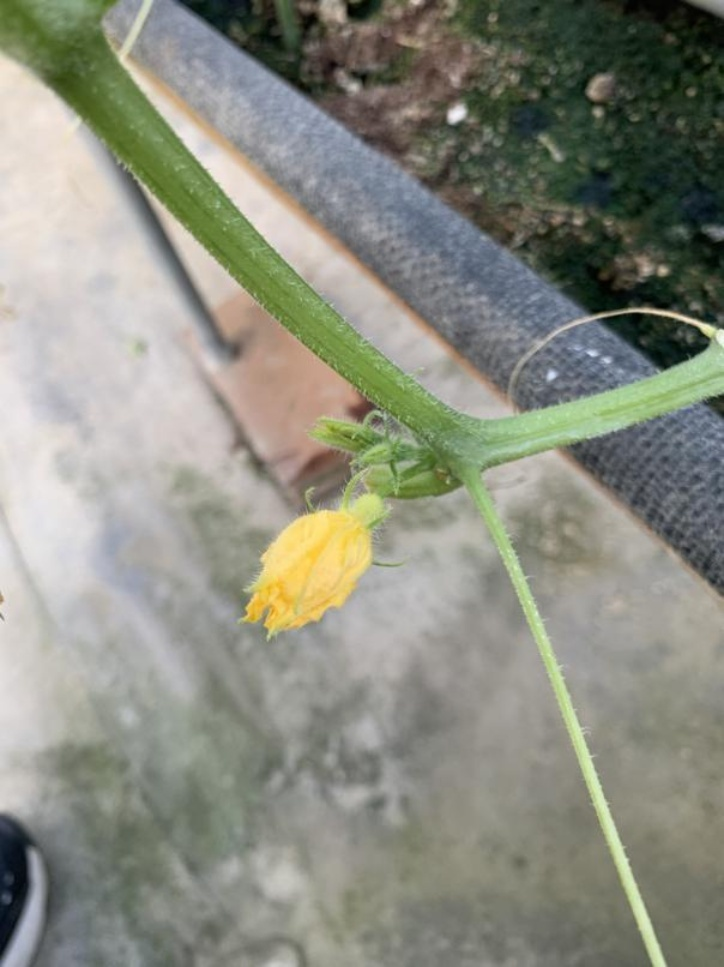bud: (206, 476, 407, 649)
